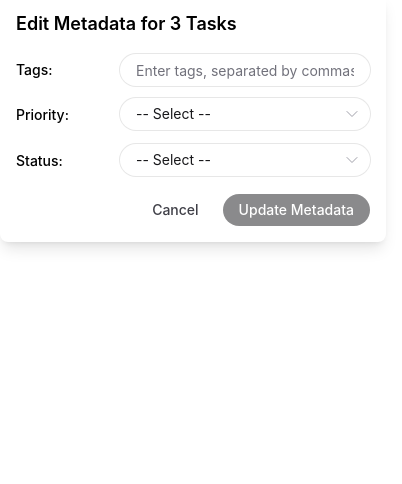
BulkMetadataEditor › adds tags when typing in tags field
Type "tag1, tag2" into the field with placeholder "Enter tags, separated by commas" at (245, 70), box [120,54,370,86]
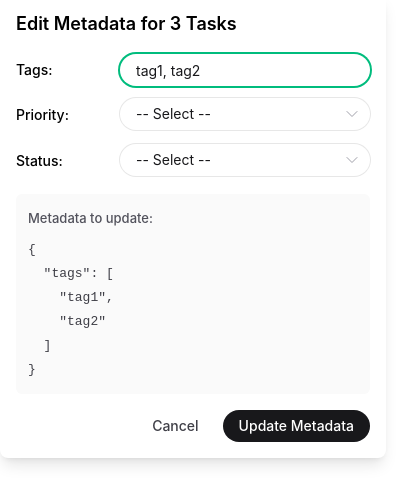
Result: the text "Metadata to update:" is shown at [28,210,153,226]
